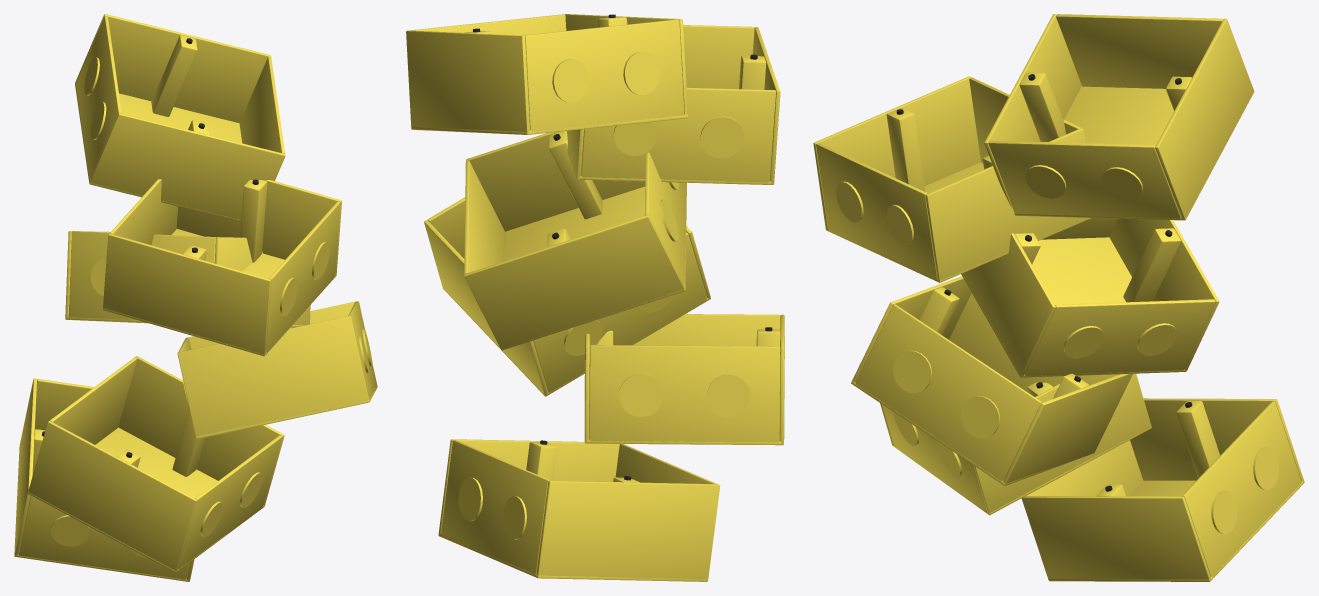
Rendered from ELE-CXA-002_anim.glb.
3 views of the same model, side by side, from view 1: azimuth 30°, elevation 25°; view 2: azimuth 150°, elevation 25°; view 3: azimuth 270°, elevation 25° (orthographic). The views are drawn at different scales.
Parts seen in each view (by area): view 1: ELE-CXA-002_anim1, ELE-CXA-002_anim5, ELE-CXA-002_anim4, ELE-CXA-002_anim2, ELE-CXA-002_anim0, ELE-CXA-002_anim3; view 2: ELE-CXA-002_anim3, ELE-CXA-002_anim0, ELE-CXA-002_anim5, ELE-CXA-002_anim1, ELE-CXA-002_anim4, ELE-CXA-002_anim2; view 3: ELE-CXA-002_anim5, ELE-CXA-002_anim0, ELE-CXA-002_anim3, ELE-CXA-002_anim4, ELE-CXA-002_anim2, ELE-CXA-002_anim1.
Boxes of the visible parts, x1,y1,x2,y2 form: ELE-CXA-002_anim1: (28,356,284,572); ELE-CXA-002_anim5: (75,14,285,221); ELE-CXA-002_anim4: (103,179,341,356); ELE-CXA-002_anim2: (177,301,377,439); ELE-CXA-002_anim0: (14,378,194,581); ELE-CXA-002_anim3: (65,231,310,327); ELE-CXA-002_anim3: (464,131,686,350); ELE-CXA-002_anim0: (438,439,720,581); ELE-CXA-002_anim5: (406,14,688,134); ELE-CXA-002_anim1: (584,314,784,445); ELE-CXA-002_anim4: (566,25,780,184); ELE-CXA-002_anim2: (424,197,710,396); ELE-CXA-002_anim5: (984,14,1254,220); ELE-CXA-002_anim0: (1021,398,1304,581); ELE-CXA-002_anim3: (961,218,1219,377); ELE-CXA-002_anim4: (813,76,1091,282); ELE-CXA-002_anim2: (851,276,1132,485); ELE-CXA-002_anim1: (880,373,1151,515).
Size of the model in its own units: 0.2121 by 0.316 by 0.251.
